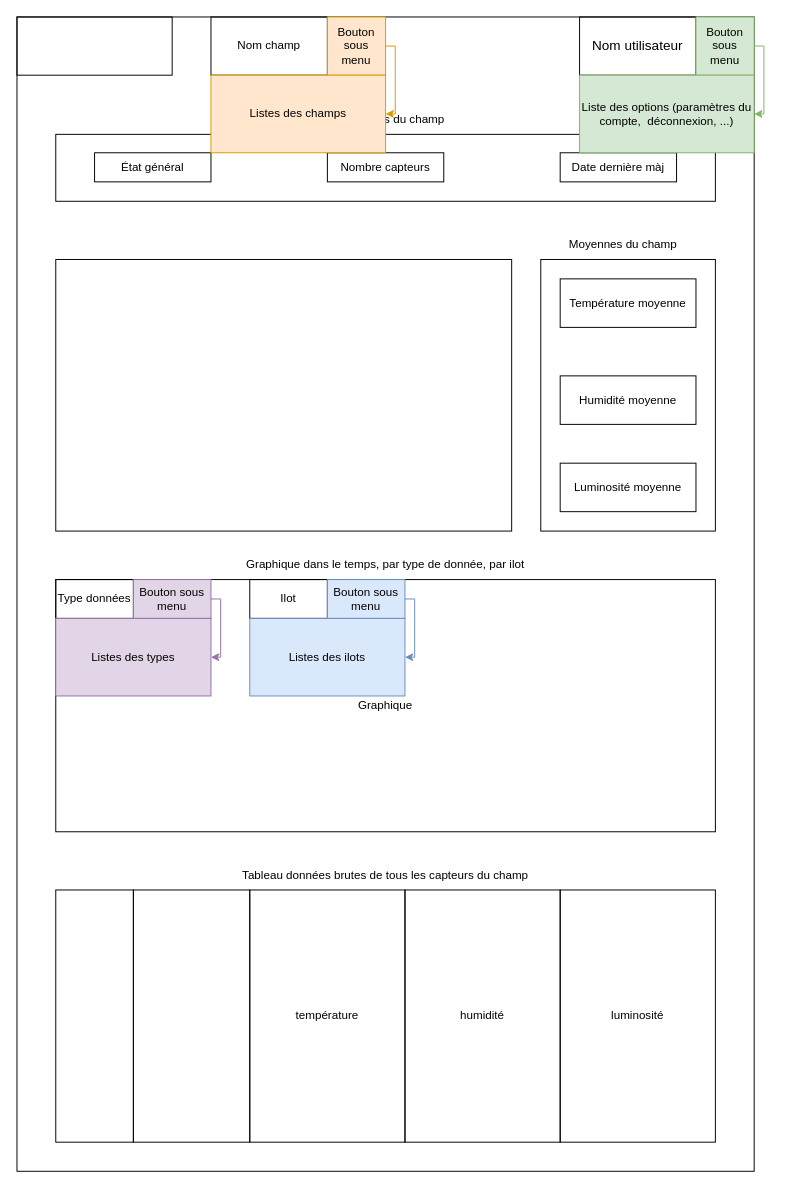
This 789x1188 diagram has some shape labels left out. Here are the shapes that lost their labels. From the top down, the centre of each, then its label:
At [94,45]: "Logo entreprise".
At [283,395]: "Météo".
At [94,1015]: "id micro-ordi".
At [191,1015]: "date".
